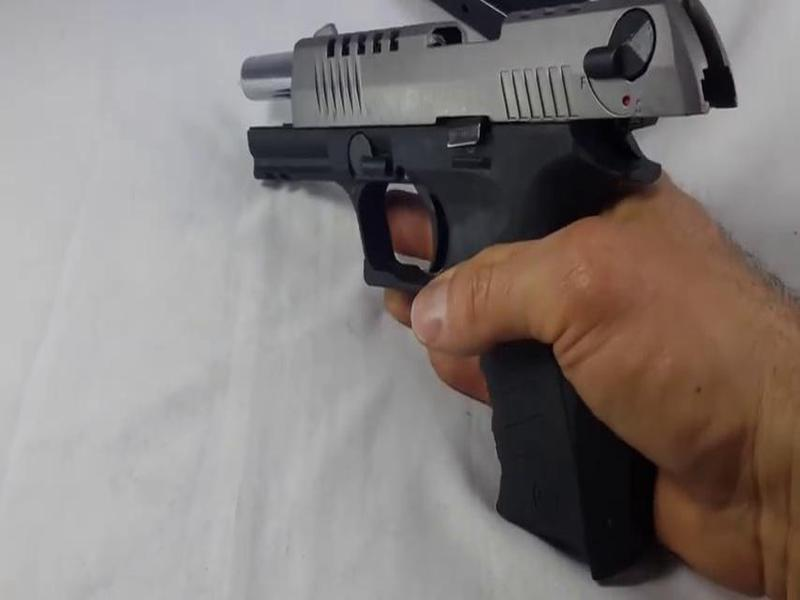Pistola: (231, 1, 733, 544)
